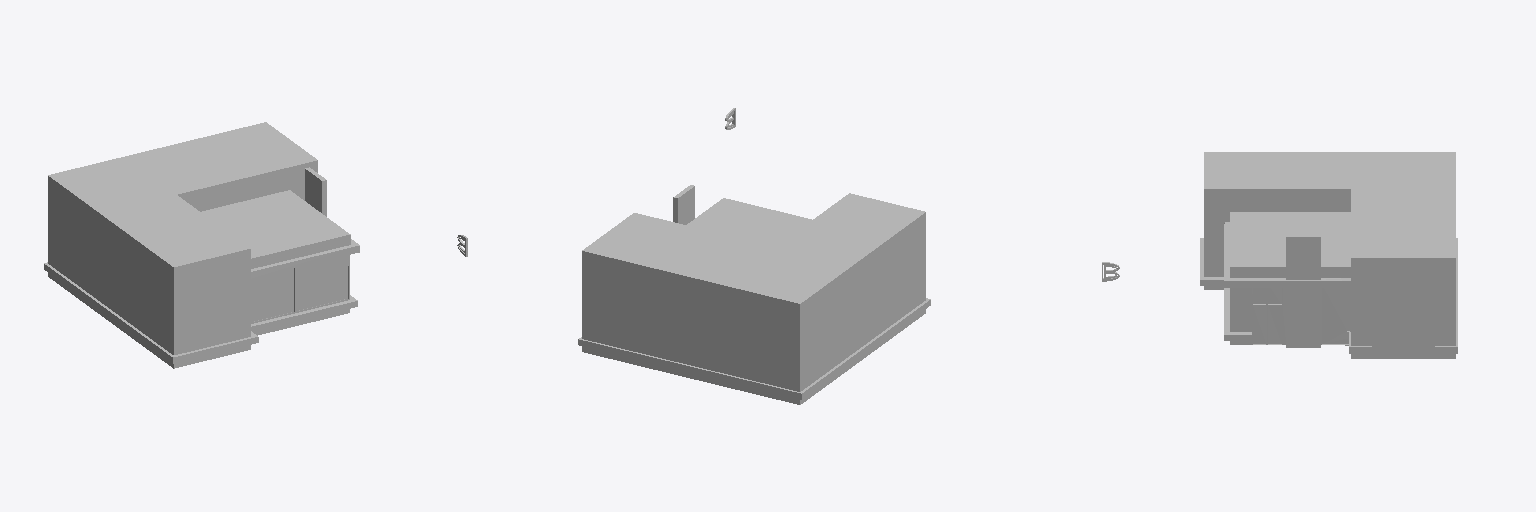
3 renders of one model, left to right at view 1: azimuth 30°, elevation 25°; view 2: azimuth 150°, elevation 25°; view 3: azimuth 270°, elevation 25°, orthographic.
Parts seen in each view (by area): view 1: Cube.001, red-build; view 2: Cube.001, red-build; view 3: Cube.001, red-build.
Part boxes in pixels (x1,y1,x2,y2): Cube.001: (44,122,359,368); red-build: (305,167,326,216); Cube.001: (578,193,930,404); red-build: (674,185,694,224); Cube.001: (1200,152,1457,358); red-build: (1286,234,1320,347).
Bounding box in the file's own units: 14.7 × 6.34 × 18.45.